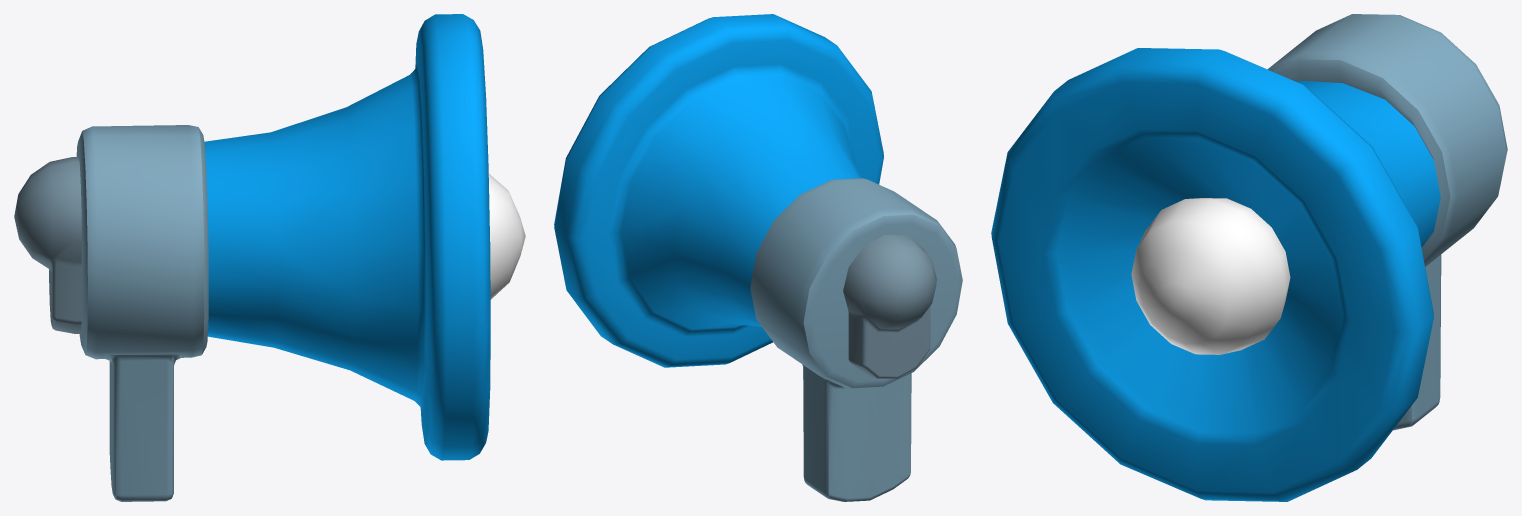
The picture shows the model from 3 angles, left to right: view 1: azimuth 30°, elevation 25°; view 2: azimuth 150°, elevation 25°; view 3: azimuth 270°, elevation 25°; orthographic projection. The views are drawn at different scales.
Visible parts, largest first — view 1: model_0.029; view 2: model_0.029; view 3: model_0.029.
Boxes of the visible parts, x1,y1,x2,y2 form: model_0.029: [14, 14, 525, 501]; model_0.029: [554, 14, 962, 501]; model_0.029: [991, 14, 1507, 501].
Size of the model in its own units: 3.76 by 3.63 by 3.45.
